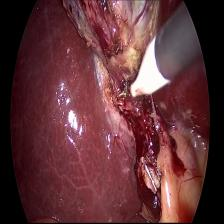Hook: (114, 38, 167, 112)
